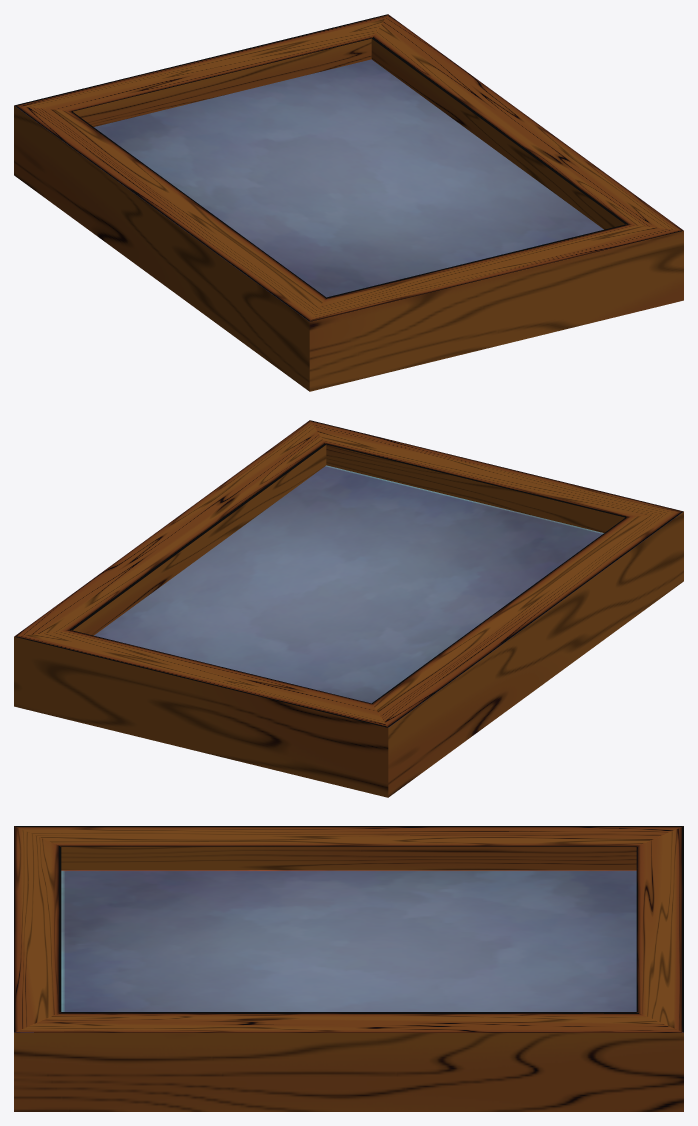
The model's file is MTile_20.fbx.
The picture shows the model from 3 angles, top to bottom: view 1: azimuth 30°, elevation 25°; view 2: azimuth 150°, elevation 25°; view 3: azimuth 270°, elevation 25°; orthographic projection. The views are drawn at different scales.
Visible parts, largest first — view 1: MTile_20; view 2: MTile_20; view 3: MTile_20.
Part boxes in pixels (x1=…): MTile_20: x1=14, y1=14, x2=683, y2=391; MTile_20: x1=14, y1=420, x2=683, y2=797; MTile_20: x1=14, y1=826, x2=683, y2=1111.
Bounding box in the file's own units: 106 × 18.94 × 145.
